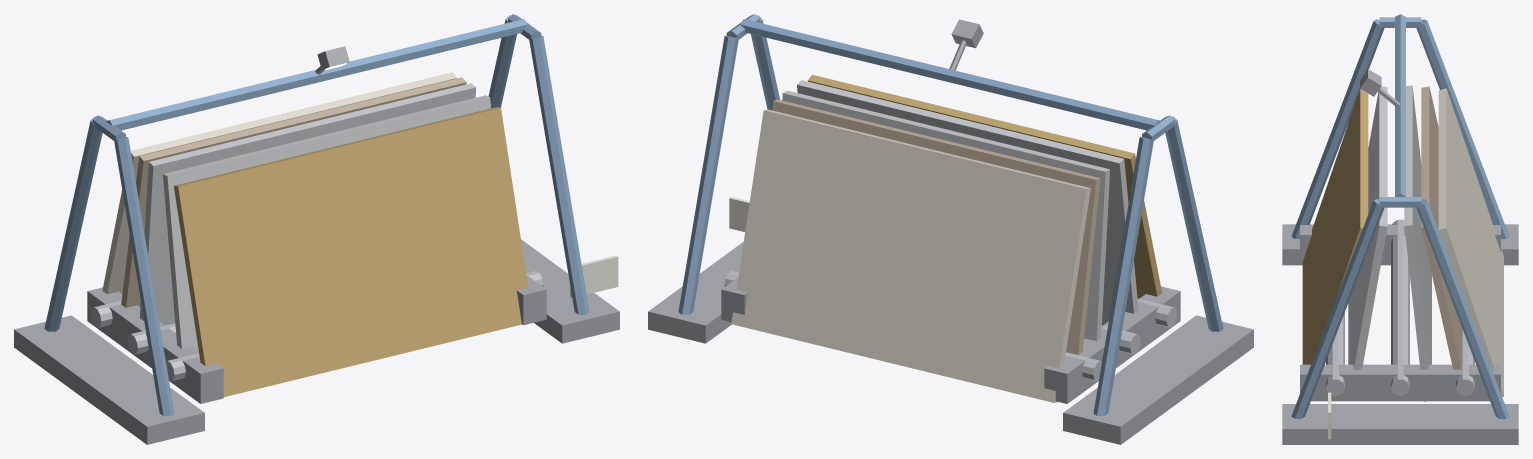
File: parts_rack.glb
The picture shows the model from 3 angles, left to right: view 1: azimuth 30°, elevation 25°; view 2: azimuth 150°, elevation 25°; view 3: azimuth 270°, elevation 25°; orthographic projection. The views are drawn at different scales.
Parts seen in each view (by area): view 1: plate4, foot1, plate0, plate3, spine, aleg0_a, aleg1_a, plate1, plate2, sparcradle_a, foot0, aleg1_f (+4 smaller); view 2: plate2, foot1, plate3, plate1, plate0, spine, plate4, aleg0_f, aleg1_f, foot0, sparcradle_a, aleg1_a (+5 smaller); view 3: plate2, foot0, plate4, sparcradle_f, plate3, plate0, plate1, aleg0_a, aleg0_f, aleg1_a, spar1, aleg1_f (+8 smaller).
Part boxes in pixels (x1,y1,x2,y2): plate4: (174,107,527,396); foot1: (14,315,204,444); plate0: (139,83,476,325); plate3: (163,95,490,349); spine: (106,19,527,130); aleg0_a: (529,35,589,314); aleg1_a: (114,137,174,415); plate1: (121,77,466,307); plate2: (102,72,456,294); sparcradle_a: (87,287,223,403); foot0: (521,239,619,343); aleg1_f: (44,116,102,331); plate2: (731,109,1090,402); foot1: (1063,315,1253,444); plate3: (797,80,1138,325); plate1: (772,99,1100,354); plate0: (782,90,1110,341); spine: (740,19,1161,130); plate4: (807,74,1161,298); aleg0_f: (678,35,738,314); aleg1_f: (1093,137,1153,415); foot0: (648,242,743,343); sparcradle_a: (1044,286,1180,403); aleg1_a: (1165,116,1223,331); plate2: (1438,88,1503,396); foot0: (1282,404,1518,444); plate4: (1302,89,1368,364); sparcradle_f: (1300,364,1500,401); plate3: (1348,86,1387,369); plate0: (1404,85,1431,401); plate1: (1421,86,1461,369); aleg0_a: (1291,199,1384,418); aleg0_f: (1416,199,1509,418); aleg1_a: (1291,19,1384,238); spar1: (1391,219,1409,395); aleg1_f: (1416,19,1509,238).
Size of the model in its own units: 8.62 by 5.03 by 4.
